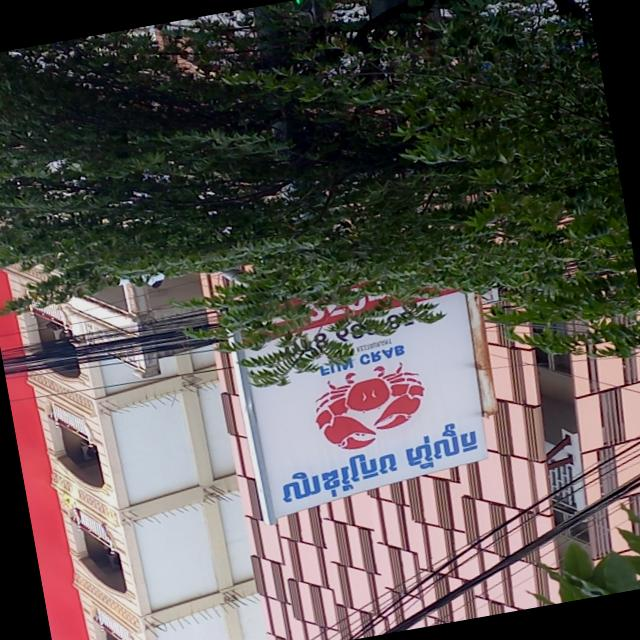Yolov11_80vkh: (272, 413, 481, 519)
